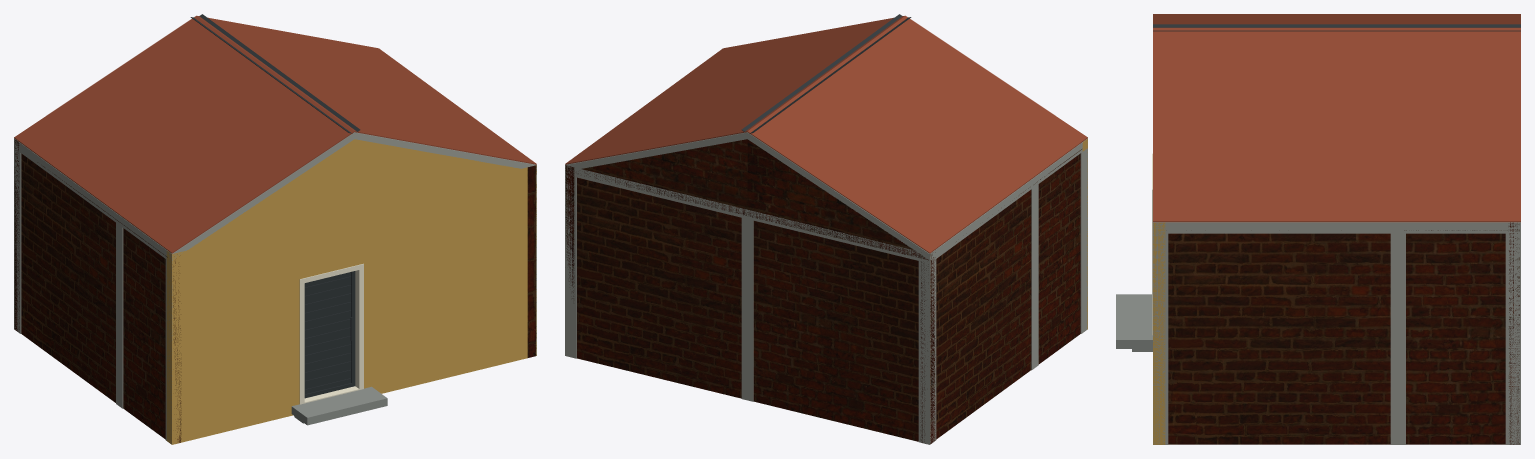
Rendered from building.glb.
3 views of the same model, side by side, from view 1: azimuth 30°, elevation 25°; view 2: azimuth 150°, elevation 25°; view 3: azimuth 270°, elevation 25° (orthographic). The views are drawn at different scales.
Parts seen in each view (by area): view 1: house:0/edge0/z0/house:0/edge0/z0/wall_0_0, roof_assembly/cubierta/roof_cover#0001, house:0/edge3/z0/house:0/edge3/z0/wall_0_0, roof_assembly/cubierta/roof_cover#0002, roof_assembly/cubierta/roof_gable_closure#0001, roof_assembly/cubierta/roof_gable_closure#0004, house:0/edge0/z0/opening_u2.80_v0.12/door_reveal#0001, roof_assembly/cubierta/roof_substrate#0001, site/entrance/0/entrance_step#0002, house:0/edge1/z0/house:0/edge1/z0/wall_0_0, house:0/edge3/z0/house:0/edge3/z0/beam_0_0, house:0/edge3/z0/house:0/edge3/z0/column_2_0 (+6 smaller); view 2: house:0/edge2/z0/house:0/edge2/z0/wall_0_0, roof_assembly/cubierta/roof_cover#0001, house:0/edge3/z0/house:0/edge3/z0/wall_0_0, roof_assembly/cubierta/roof_cover#0002, roof_assembly/cubierta/roof_gable_closure#0002, roof_assembly/cubierta/roof_gable_closure#0006, house:0/edge2/z0/house:0/edge2/z0/beam_0_0, house:0/edge2/z0/house:0/edge2/z0/column_2_0, house:0/edge2/z0/house:0/edge2/z0/column_1_0, house:0/edge2/z0/house:0/edge2/z0/column_0_0, roof_assembly/cubierta/roof_substrate#0001, house:0/edge3/z0/house:0/edge3/z0/beam_0_0 (+6 smaller); view 3: roof_assembly/cubierta/roof_cover#0002, house:0/edge1/z0/house:0/edge1/z0/wall_0_0, roof_assembly/cubierta/roof_cover#0001, house:0/edge1/z0/house:0/edge1/z0/beam_0_0, house:0/edge1/z0/house:0/edge1/z0/column_2_0, house:0/edge1/z0/house:0/edge1/z0/column_1_0, house:0/edge0/z0/house:0/edge0/z0/wall_0_0, house:0/edge1/z0/house:0/edge1/z0/column_0_0, roof_assembly/cubierta/roof_ridge#0001, site/entrance/0/entrance_step#0002, roof_assembly/cubierta/roof_substrate#0002, house:0/edge2/z0/house:0/edge2/z0/wall_0_0.
Part boxes in pixels (x1,y1,x2,y2): house:0/edge0/z0/house:0/edge0/z0/wall_0_0: (166,166,536,444); roof_assembly/cubierta/roof_cover#0001: (14,16,354,253); house:0/edge3/z0/house:0/edge3/z0/wall_0_0: (21,153,181,442); roof_assembly/cubierta/roof_cover#0002: (197,16,536,164); roof_assembly/cubierta/roof_gable_closure#0001: (168,139,354,258); roof_assembly/cubierta/roof_gable_closure#0004: (354,139,520,215); house:0/edge0/z0/opening_u2.80_v0.12/door_reveal#0001: (299,263,363,404); roof_assembly/cubierta/roof_substrate#0001: (14,132,354,259); site/entrance/0/entrance_step#0002: (291,386,387,425); house:0/edge1/z0/house:0/edge1/z0/wall_0_0: (527,165,536,357); house:0/edge3/z0/house:0/edge3/z0/beam_0_0: (14,139,172,263); house:0/edge3/z0/house:0/edge3/z0/column_2_0: (116,223,123,408); house:0/edge2/z0/house:0/edge2/z0/wall_0_0: (577,177,935,443); roof_assembly/cubierta/roof_cover#0001: (747,16,1087,253); house:0/edge3/z0/house:0/edge3/z0/wall_0_0: (920,153,1080,442); roof_assembly/cubierta/roof_cover#0002: (565,16,904,164); roof_assembly/cubierta/roof_gable_closure#0002: (747,139,928,260); roof_assembly/cubierta/roof_gable_closure#0006: (578,139,747,215); house:0/edge2/z0/house:0/edge2/z0/beam_0_0: (565,166,930,263); house:0/edge2/z0/house:0/edge2/z0/column_2_0: (741,218,753,401); house:0/edge2/z0/house:0/edge2/z0/column_1_0: (918,261,930,444); house:0/edge2/z0/house:0/edge2/z0/column_0_0: (565,174,576,358); roof_assembly/cubierta/roof_substrate#0001: (747,132,1087,259); house:0/edge3/z0/house:0/edge3/z0/beam_0_0: (929,142,1082,262); roof_assembly/cubierta/roof_cover#0002: (1153,28,1520,222); house:0/edge1/z0/house:0/edge1/z0/wall_0_0: (1168,233,1505,444); roof_assembly/cubierta/roof_cover#0001: (1153,14,1520,27); house:0/edge1/z0/house:0/edge1/z0/beam_0_0: (1153,222,1520,233); house:0/edge1/z0/house:0/edge1/z0/column_2_0: (1390,233,1405,444); house:0/edge1/z0/house:0/edge1/z0/column_1_0: (1505,233,1520,444); house:0/edge0/z0/house:0/edge0/z0/wall_0_0: (1153,222,1165,444); house:0/edge1/z0/house:0/edge1/z0/column_0_0: (1153,233,1168,444); roof_assembly/cubierta/roof_ridge#0001: (1153,24,1520,31); site/entrance/0/entrance_step#0002: (1116,294,1152,348); roof_assembly/cubierta/roof_substrate#0002: (1153,222,1520,230); house:0/edge2/z0/house:0/edge2/z0/wall_0_0: (1508,222,1519,444).
Size of the model in its own units: 8 by 5.69 by 6.6.
Materials: 7 (1 with a texture image).
